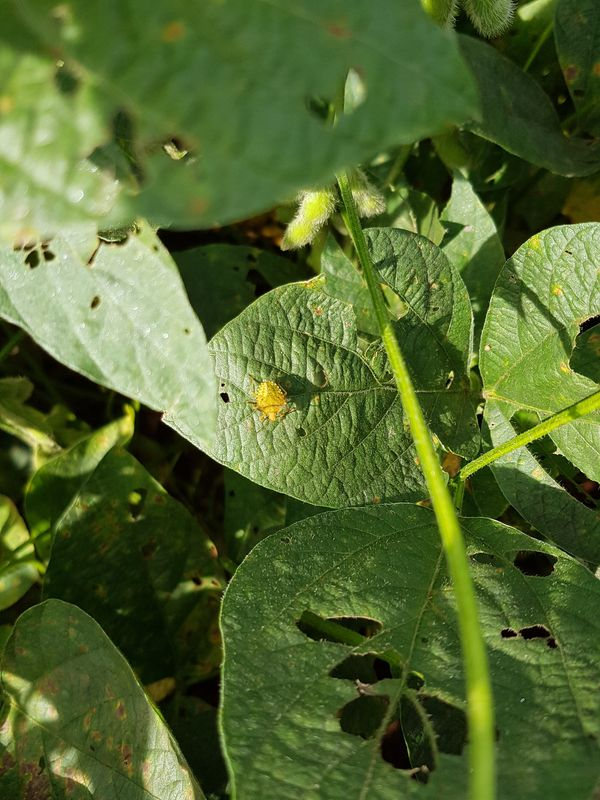Euschistus_heros_ninfa: (241, 373, 302, 431)
